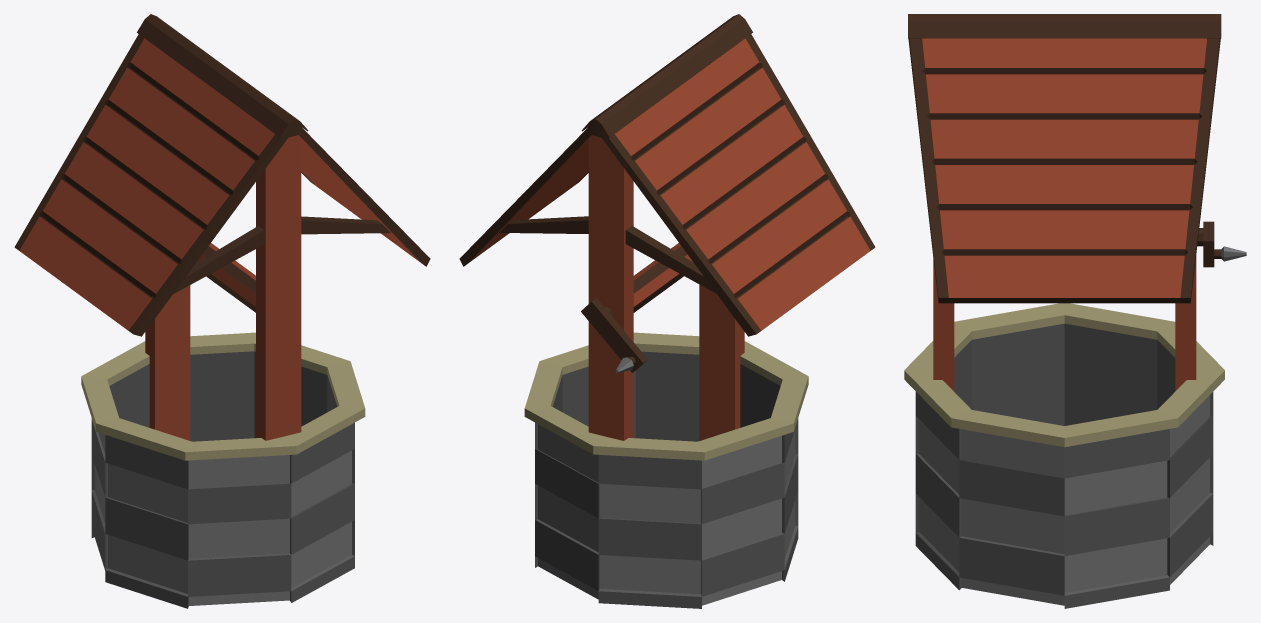
The model's file is Well.fbx.
3 views of the same model, side by side, from view 1: azimuth 30°, elevation 25°; view 2: azimuth 150°, elevation 25°; view 3: azimuth 270°, elevation 25° (orthographic). The views are drawn at different scales.
Parts seen in each view (by area): view 1: Cylinder.002; view 2: Cylinder.002; view 3: Cylinder.002.
Part boxes in pixels (<box>): Cylinder.002: <box>14,14,430,608</box>; Cylinder.002: <box>459,14,875,608</box>; Cylinder.002: <box>904,14,1246,608</box>.
Bounding box in the file's own units: 588 × 916 × 535.
